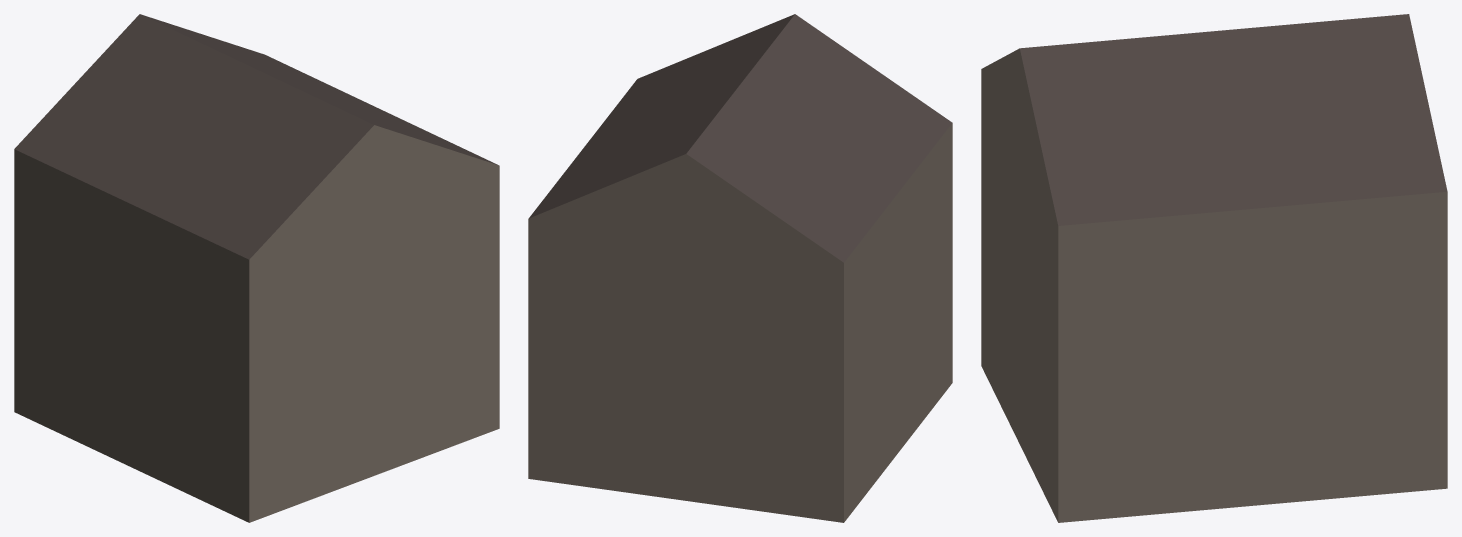
3 views of the same model, side by side, from view 1: azimuth 30°, elevation 25°; view 2: azimuth 150°, elevation 25°; view 3: azimuth 270°, elevation 25° (orthographic). The views are drawn at different scales.
Visible parts, largest first — view 1: HP-w1376988826; view 2: HP-w1376988826; view 3: HP-w1376988826.
Part boxes in pixels (x1,y1,x2,y2): HP-w1376988826: (14,14,499,522); HP-w1376988826: (528,14,952,522); HP-w1376988826: (981,14,1447,522).
Size of the model in its own units: 8.29 by 8.01 by 8.54.
